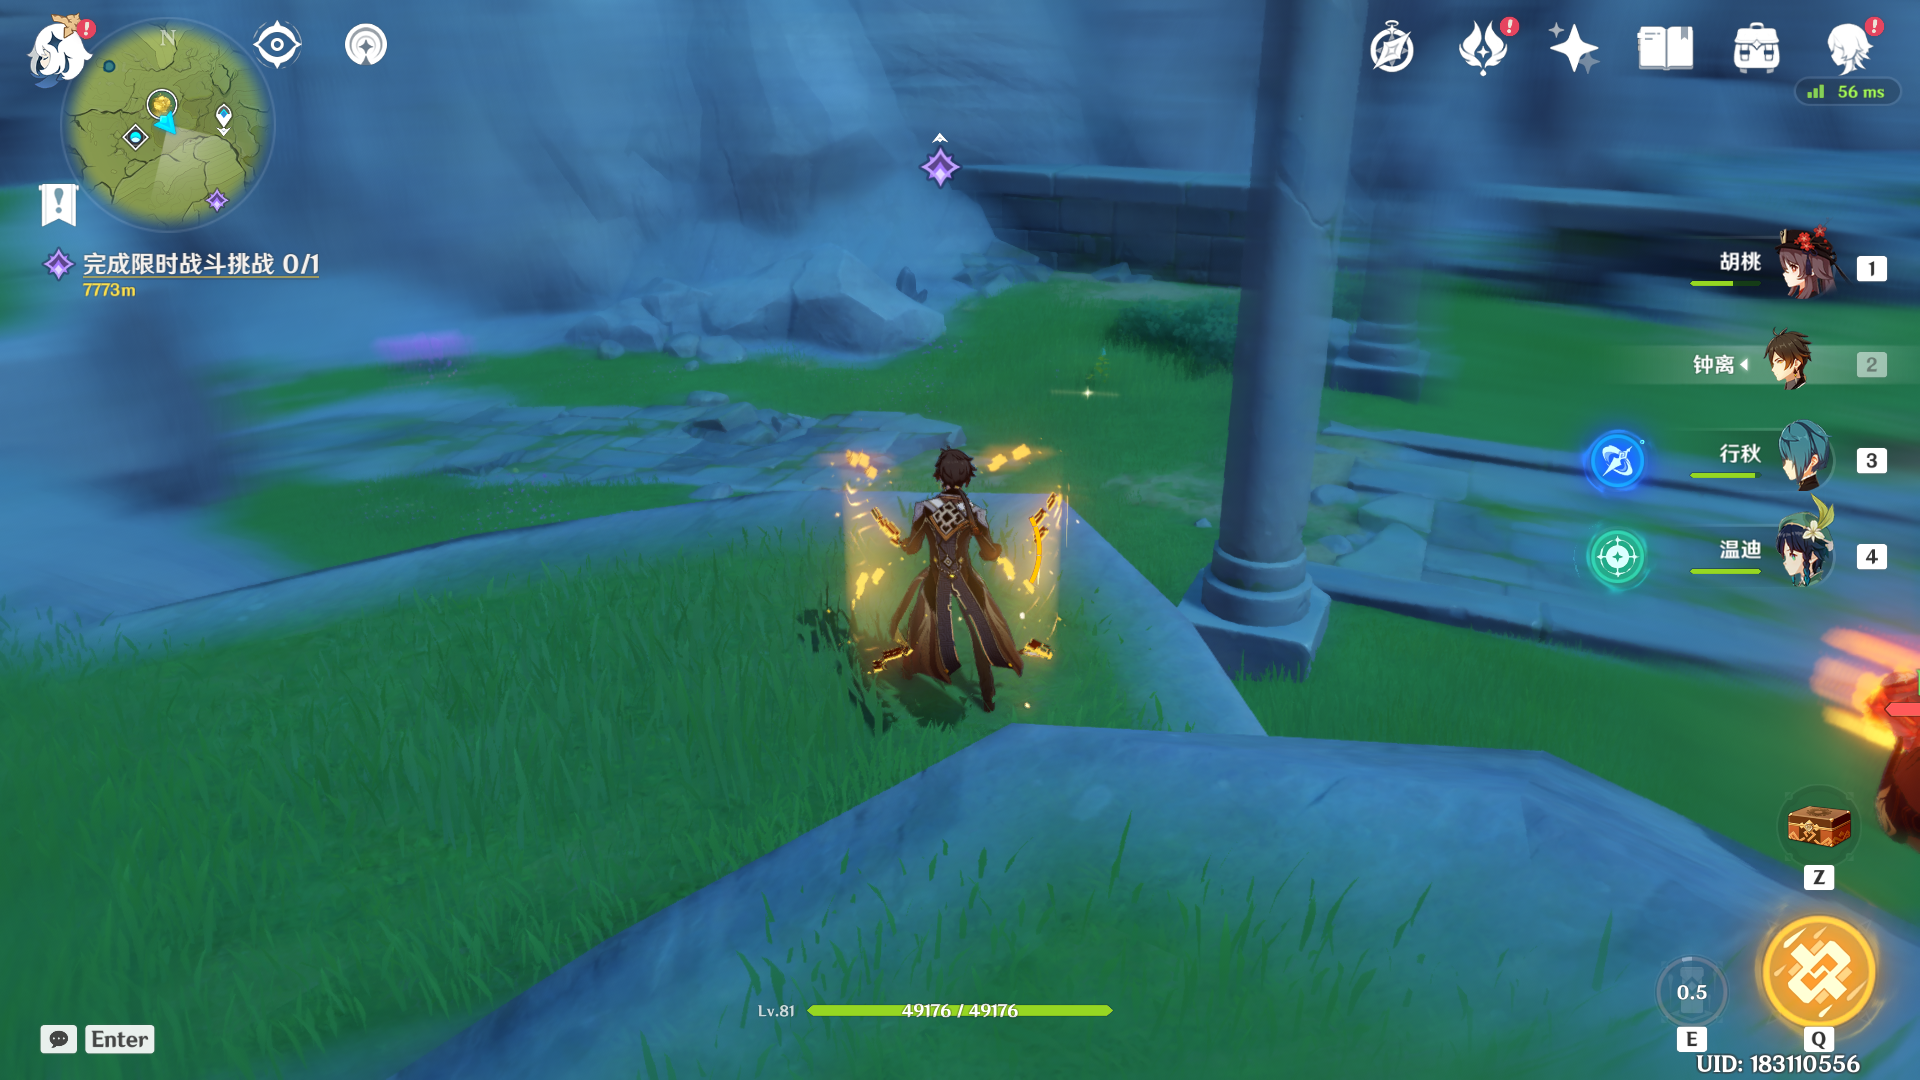character: (738, 400, 1095, 709)
